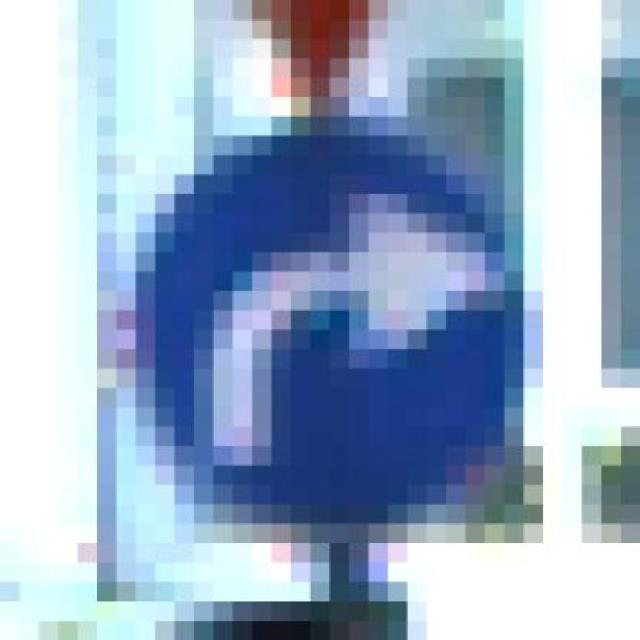Turn right ahead: (116, 97, 562, 543)
